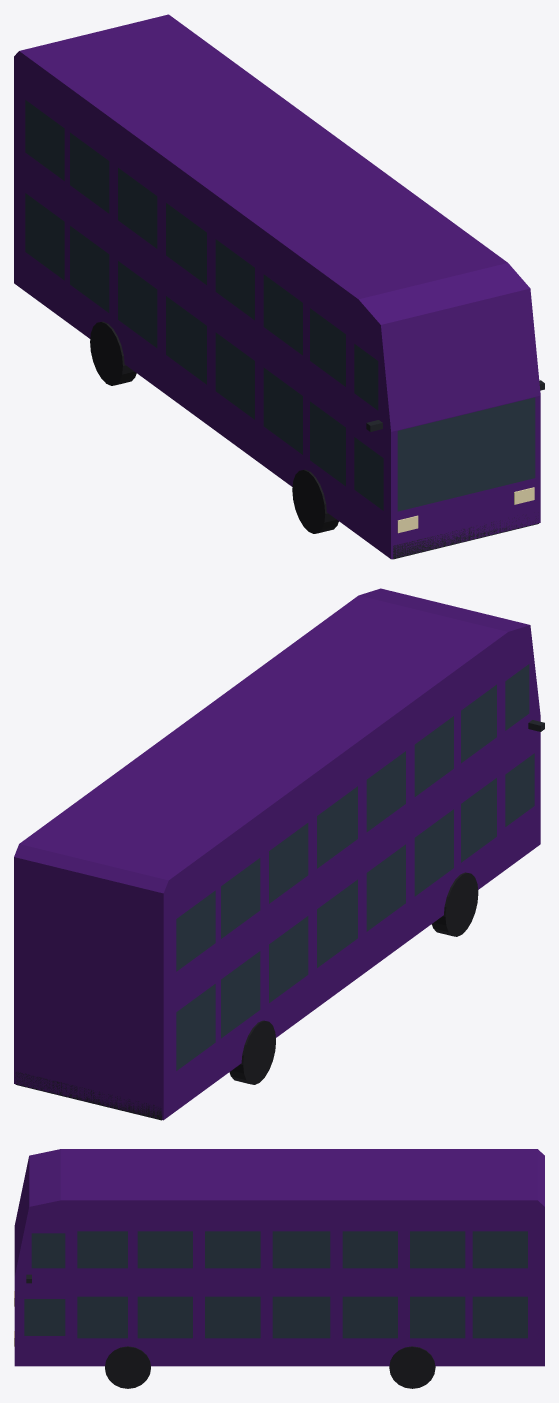
Rendered from bus_double.glb.
3 renders of one model, top to bottom at view 1: azimuth 30°, elevation 25°; view 2: azimuth 150°, elevation 25°; view 3: azimuth 270°, elevation 25°, orthographic. The views are drawn at different scales.
Visible parts, largest first — view 1: body, glass_screen, glass_side.023, glass_side.017, glass_side.025, glass_side.027, glass_side.021, glass_side.019, glass_side.007, glass_side.029, glass_side.003, glass_side.011 (+9 smaller); view 2: body, glass_side.023, glass_side.019, glass_side.021, glass_side.025, glass_side.027, glass_side.017, glass_side.007, glass_side.029, glass_side.001, glass_side.009, glass_side.003 (+8 smaller); view 3: body, glass_side.022, glass_side.024, glass_side.016, glass_side.018, glass_side.020, glass_side.026, glass_side.006, glass_side.028, glass_side.008, glass_side, glass_side.002 (+7 smaller).
Boxes of the visible parts, x1,y1,x2,y2 form: body: (14,14,540,559); glass_screen: (397,397,535,511); glass_side.023: (166,296,206,384); glass_side.017: (25,193,64,280); glass_side.025: (215,332,254,419); glass_side.027: (263,367,302,454); glass_side.021: (118,261,157,347); glass_side.019: (70,226,109,312); glass_side.007: (166,203,206,284); glass_side.029: (310,401,345,486); glass_side.003: (70,132,109,213); glass_side.011: (263,274,302,355); body: (14,588,540,1120); glass_side.023: (317,879,357,967); glass_side.019: (221,951,260,1038); glass_side.021: (269,916,308,1002); glass_side.025: (366,844,405,931); glass_side.027: (414,809,453,896); glass_side.017: (176,984,215,1070); glass_side.007: (317,786,357,868); glass_side.029: (461,778,496,862); glass_side.001: (176,890,215,971); glass_side.009: (366,751,405,831); glass_side.003: (221,858,260,938); body: (14,1149,544,1366); glass_side.022: (272,1296,330,1338); glass_side.024: (205,1296,260,1338); glass_side.016: (472,1296,527,1338); glass_side.018: (410,1296,465,1338); glass_side.020: (342,1296,397,1338); glass_side.026: (137,1296,192,1338); glass_side.006: (272,1231,330,1268); glass_side.028: (77,1296,127,1338); glass_side.008: (205,1231,260,1268); glass_side: (472,1231,527,1268); glass_side.002: (410,1231,465,1268).
Size of the model in its own units: 2.94 by 4.3 by 11.01.
